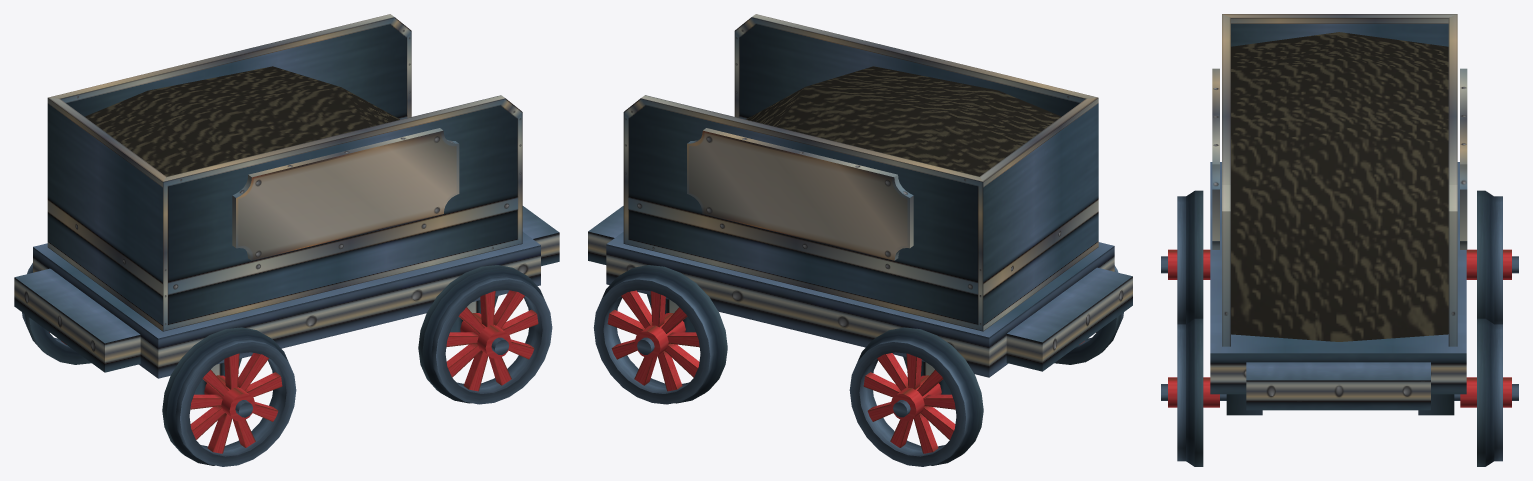
File: Wagon_01.FBX
The picture shows the model from 3 angles, left to right: view 1: azimuth 30°, elevation 25°; view 2: azimuth 150°, elevation 25°; view 3: azimuth 270°, elevation 25°; orthographic projection. The views are drawn at different scales.
Visible parts, largest first — view 1: Body, Wheel_A, Wheel_B; view 2: Body, Wheel_A, Wheel_B; view 3: Body, Wheel_B, Wheel_A.
Part boxes in pixels (bbox=[...]): Body: bbox=[14, 14, 559, 394]; Wheel_A: bbox=[22, 263, 296, 466]; Wheel_B: bbox=[418, 265, 552, 404]; Body: bbox=[588, 14, 1132, 394]; Wheel_A: bbox=[849, 265, 1123, 466]; Wheel_B: bbox=[593, 265, 727, 404]; Body: bbox=[1210, 14, 1467, 415]; Wheel_B: bbox=[1161, 318, 1518, 466]; Wheel_A: bbox=[1161, 190, 1518, 324].
Size of the model in its own units: 2.76 by 1.66 by 1.84.
